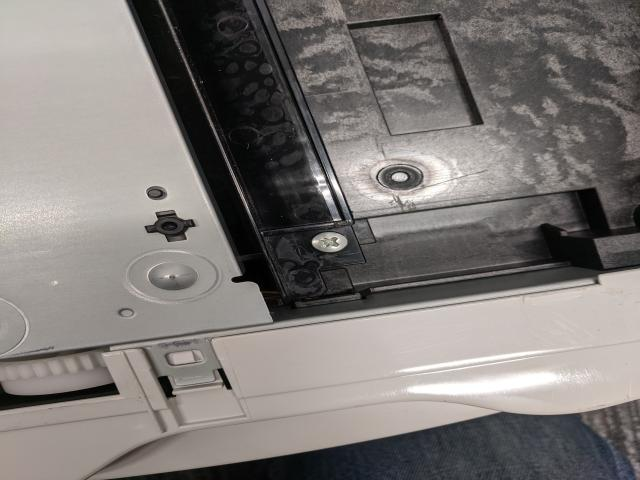CRS: (308, 230, 352, 253)
